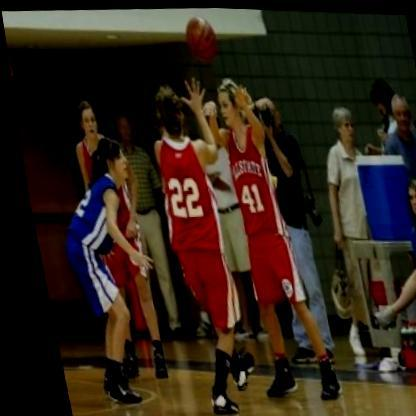basketball: (178, 16, 220, 61)
